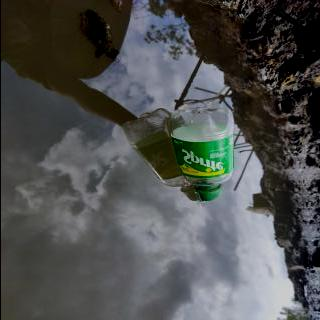bottle: (168, 100, 235, 204)
